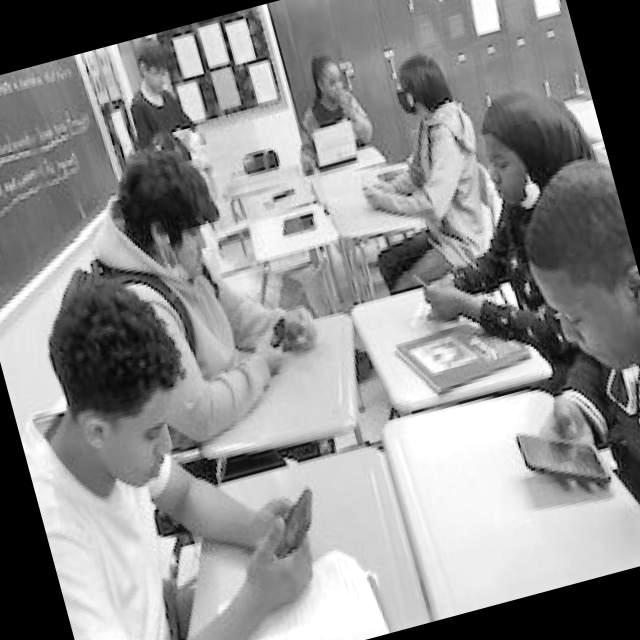phone: (512, 410, 611, 503), (258, 485, 326, 560), (409, 263, 449, 315), (262, 316, 290, 348)
